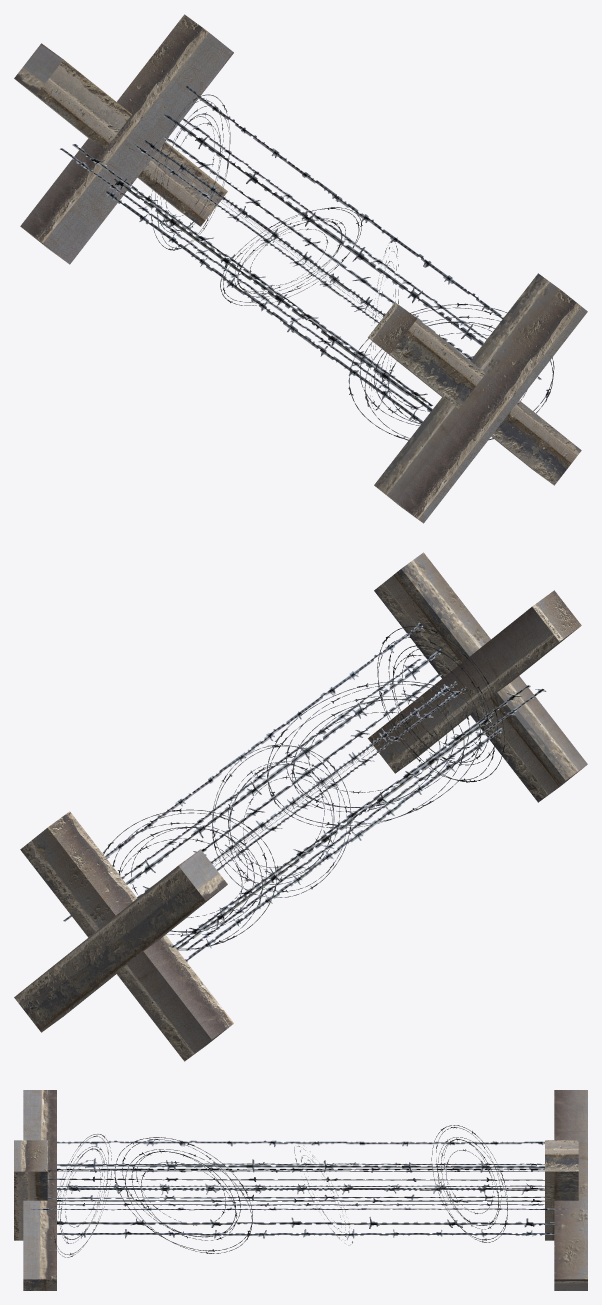
File: SM_Wall_Barbed.fbx
3 views of the same model, one above another, from view 1: azimuth 30°, elevation 25°; view 2: azimuth 150°, elevation 25°; view 3: azimuth 270°, elevation 25° (orthographic). The views are drawn at different scales.
Visible parts, largest first — view 1: pCube5, pCube2, pCube4, pCube3, pasted__pasted__pPlane2, pPlane2, pPlane1, pPlane5, pPlane4; view 2: pCube2, pCube5, pCube3, pCube4, pasted__pasted__pPlane2, pPlane2, pPlane3, pPlane4, pPlane5, pPlane1; view 3: pasted__pPlane2, pCube3, pCube4, pPlane2, pasted__pasted__pPlane2, pCube5, pCube2, pPlane3, pPlane5, pPlane1.
Boxes of the visible parts, x1,y1,x2,y2 form: pCube5: (374,273,587,523); pCube2: (20,14,233,264); pCube4: (368,302,581,485); pCube3: (14,43,227,226); pasted__pasted__pPlane2: (106,85,503,424); pPlane2: (59,118,541,409); pPlane1: (348,303,554,440); pPlane5: (151,94,230,250); pPlane4: (220,207,362,305); pCube2: (20,811,233,1061); pCube5: (374,552,587,802); pCube3: (14,849,227,1032); pCube4: (368,590,581,773); pasted__pasted__pPlane2: (105,622,502,962); pPlane2: (63,658,546,950); pPlane3: (267,681,481,828); pPlane4: (212,744,351,897); pPlane5: (103,808,276,950); pPlane1: (377,626,504,782); pasted__pPlane2: (57,1140,554,1238); pCube3: (554,1090,587,1290); pCube4: (23,1090,56,1290); pPlane2: (31,1162,568,1210); pasted__pasted__pPlane2: (47,1170,544,1206); pCube5: (14,1140,47,1240); pCube2: (545,1140,578,1240); pPlane3: (114,1137,252,1253); pPlane5: (431,1125,507,1242); pPlane1: (53,1134,111,1257).
Size of the model in its own units: 24.75 by 24.75 by 85.48.
Materials: 1 (1 with a texture image).
